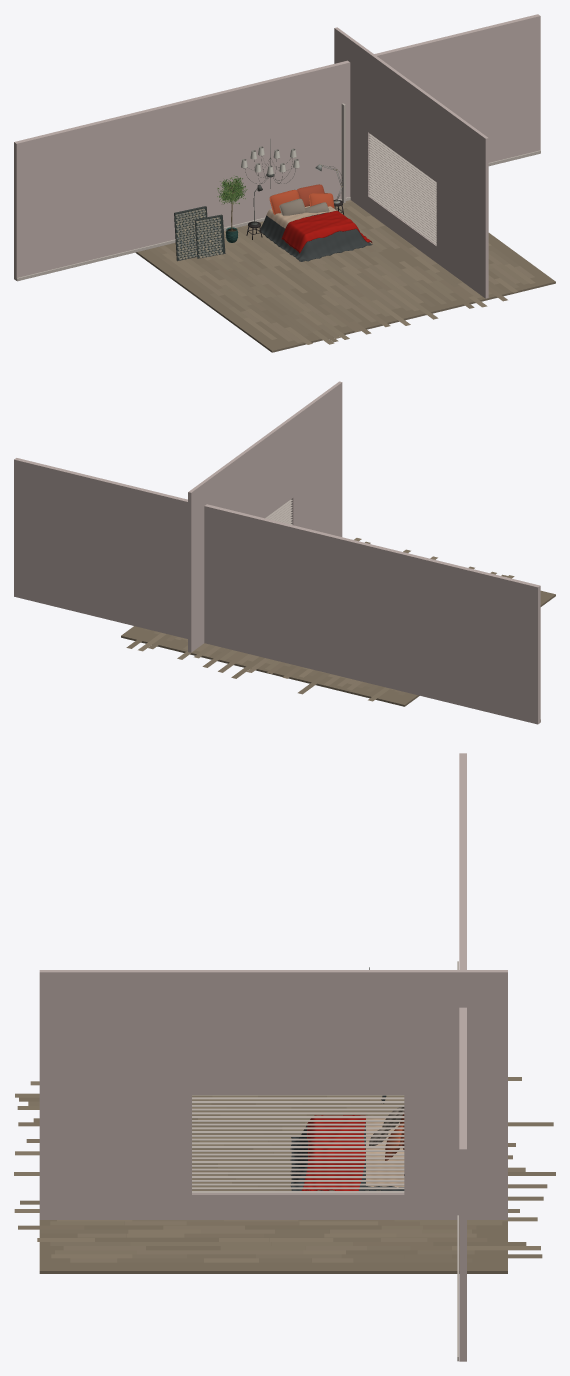
The model's file is scene-4-viga.glb.
3 views of the same model, one above another, from view 1: azimuth 30°, elevation 25°; view 2: azimuth 150°, elevation 25°; view 3: azimuth 270°, elevation 25° (orthographic). The views are drawn at different scales.
Visible parts, largest first — view 1: Continuous rear plaster wall, Joined subtle long oak floorboards, Right wall front of aperture, Right wall above window, Dark floor substrate, Right wall behind aperture, Soft domed charcoal bedcover and spreading hem, Scarlet blanket draped across foot with long side drop, Right wall below window, Rear skirting, Tall left leaning decorative screen repeated scallop relief, Smaller overlapping decorative screen repeated scallop relie (+5 smaller); view 2: Continuous rear plaster wall, Right wall front of aperture, Right wall above window, Right wall behind aperture, Joined subtle long oak floorboards, Dark floor substrate; view 3: Right wall front of aperture, Joined subtle long oak floorboards, Right wall above window, Right wall behind aperture, Dark floor substrate, Right wall below window, Continuous rear plaster wall, Scarlet blanket draped across foot with long side drop, Checked sheet at the head and right side, Soft domed charcoal bedcover and spreading hem.
Boxes of the visible parts, left/top/right/bottom form: Continuous rear plaster wall: left=14, top=14, right=540, bottom=280; Joined subtle long oak floorboards: left=148, top=200, right=535, bottom=344; Right wall front of aperture: left=436, top=102, right=488, bottom=298; Right wall above window: left=368, top=52, right=438, bottom=181; Dark floor substrate: left=135, top=201, right=555, bottom=352; Right wall behind aperture: left=334, top=27, right=370, bottom=212; Soft domed charcoal bedcover and spreading hem: left=259, top=212, right=372, bottom=261; Scarlet blanket draped across foot with long side drop: left=281, top=210, right=370, bottom=252; Right wall below window: left=368, top=196, right=436, bottom=262; Rear skirting: left=16, top=150, right=540, bottom=281; Tall left leaning decorative screen repeated scallop relief: left=175, top=208, right=206, bottom=259; Smaller overlapping decorative screen repeated scallop relie: left=196, top=217, right=222, bottom=257; Continuous rear plaster wall: left=14, top=458, right=540, bottom=724; Right wall front of aperture: left=290, top=381, right=342, bottom=536; Right wall above window: left=222, top=417, right=293, bottom=518; Right wall behind aperture: left=188, top=467, right=224, bottom=652; Joined subtle long oak floorboards: left=126, top=538, right=514, bottom=701; Dark floor substrate: left=121, top=590, right=555, bottom=706; Right wall front of aperture: left=39, top=970, right=191, bottom=1219; Joined subtle long oak floorboards: left=14, top=1077, right=555, bottom=1262; Right wall above window: left=192, top=970, right=404, bottom=1094; Right wall behind aperture: left=404, top=970, right=507, bottom=1219; Dark floor substrate: left=39, top=1096, right=507, bottom=1273; Right wall below window: left=192, top=1193, right=404, bottom=1219; Continuous rear plaster wall: left=459, top=753, right=466, bottom=1361; Scarlet blanket draped across foot with long side drop: left=302, top=1115, right=365, bottom=1190; Checked sheet at the head and right side: left=366, top=1115, right=404, bottom=1187; Soft domed charcoal bedcover and spreading hem: left=291, top=1122, right=404, bottom=1190.
Size of the model in its own units: 24 by 7.09 by 13.89.
